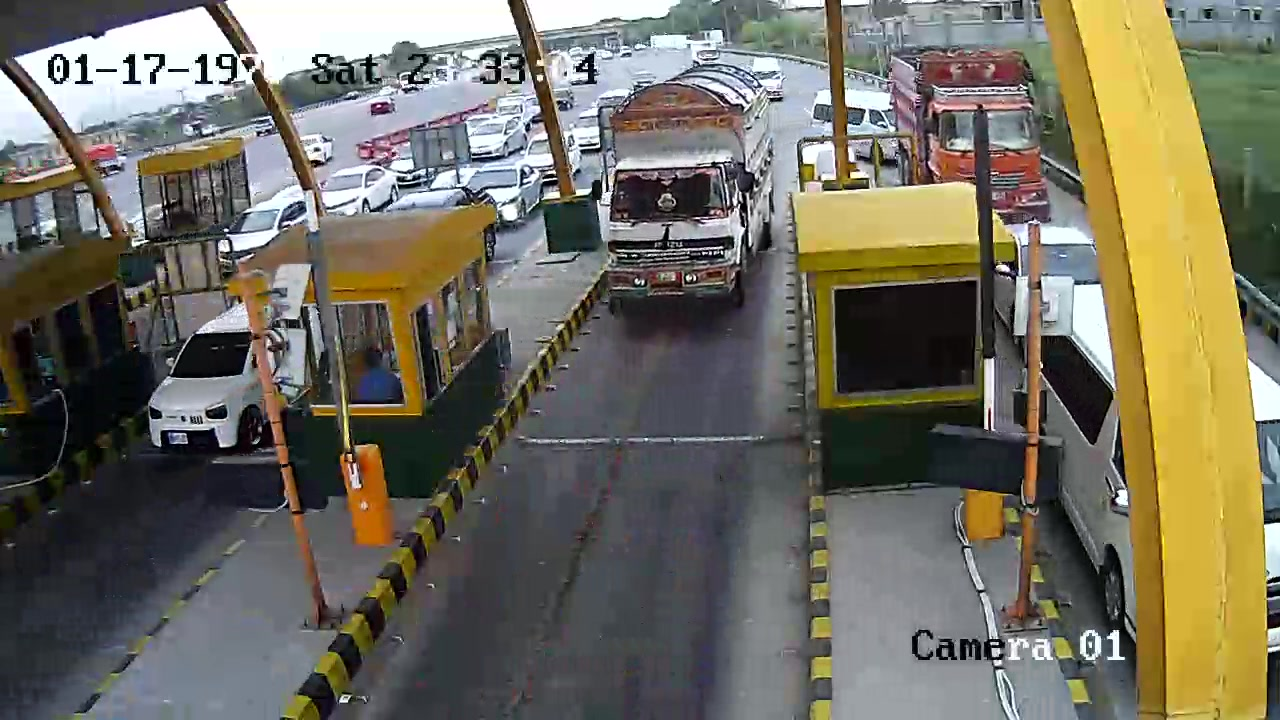F5: (592, 55, 777, 315)
